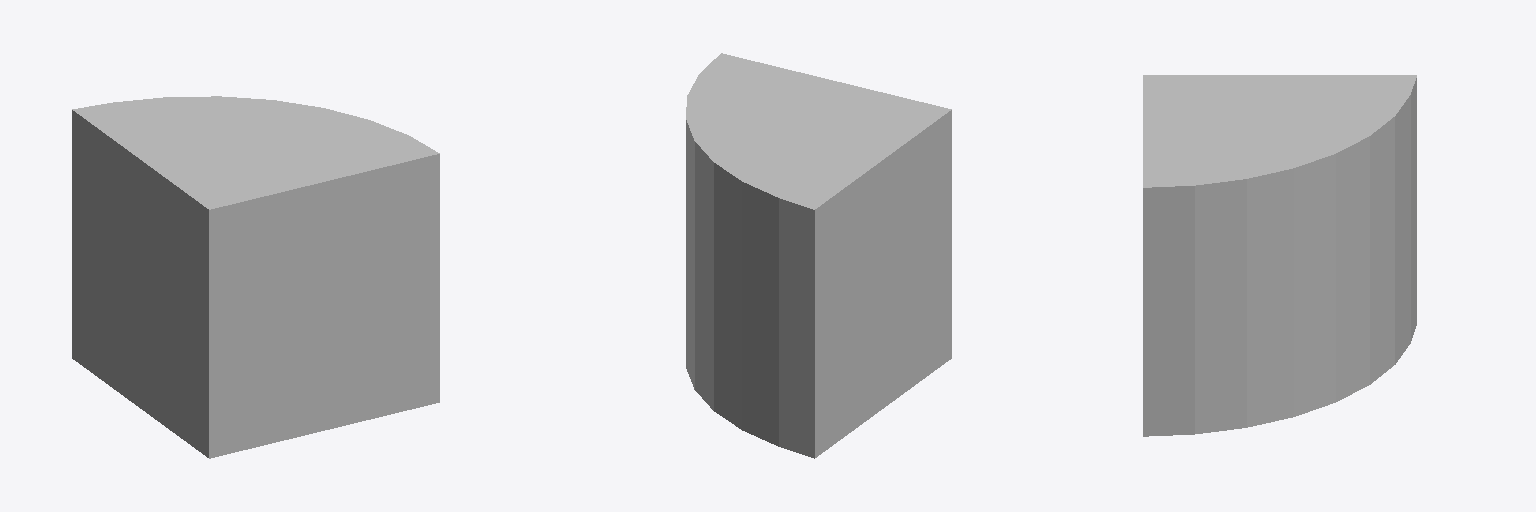
Rendered from full_radius_end_left.obj.
3 views of the same model, side by side, from view 1: azimuth 30°, elevation 25°; view 2: azimuth 150°, elevation 25°; view 3: azimuth 270°, elevation 25° (orthographic).
Parts seen in each view (by area): view 1: full_radius_end_left; view 2: full_radius_end_left; view 3: full_radius_end_left.
Boxes of the visible parts, box(x1,y1,x2,y2) form: full_radius_end_left: box(72, 96, 439, 458); full_radius_end_left: box(686, 53, 951, 458); full_radius_end_left: box(1143, 75, 1416, 436).
Bounding box in the file's own units: 1.94 × 2 × 2.